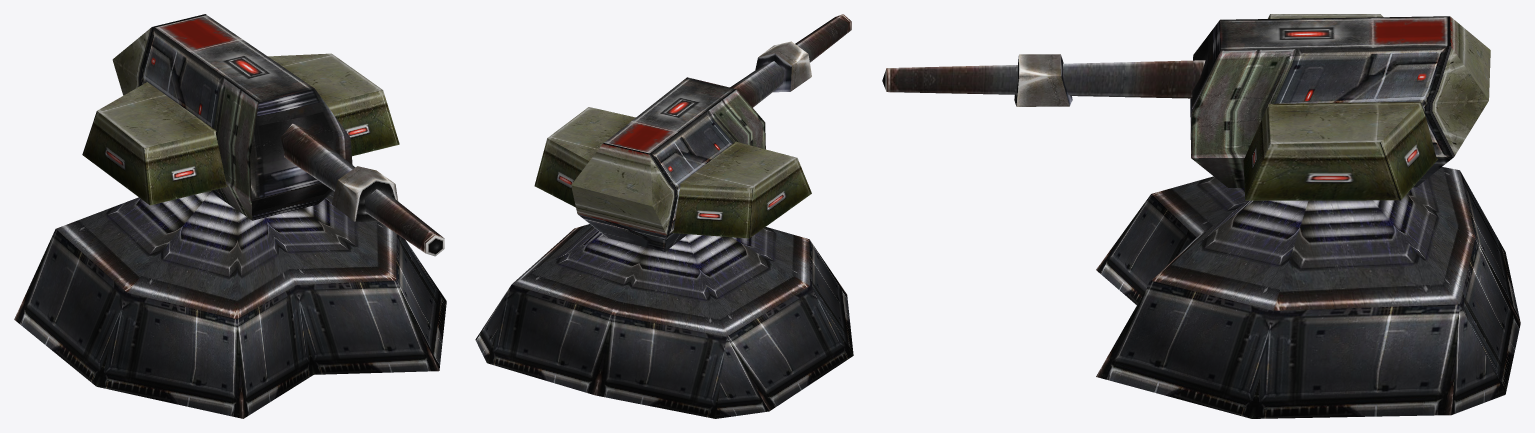
Rendered from turret-15.DAE.
3 views of the same model, side by side, from view 1: azimuth 30°, elevation 25°; view 2: azimuth 150°, elevation 25°; view 3: azimuth 270°, elevation 25° (orthographic). The views are drawn at different scales.
Visible parts, largest first — view 1: turret-15; view 2: turret-15; view 3: turret-15.
Part boxes in pixels (left/top/right/bottom): turret-15: left=14, top=14, right=446, bottom=418; turret-15: left=475, top=14, right=853, bottom=418; turret-15: left=882, top=14, right=1520, bottom=418.
Size of the model in its own units: 3.02 by 4.26 by 2.14.
